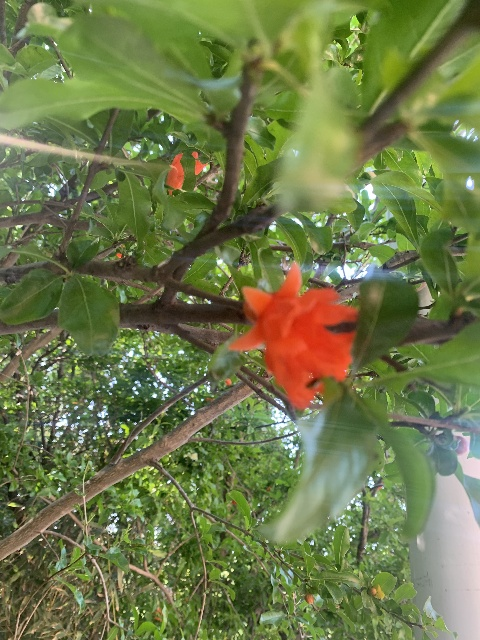bud: (305, 593, 313, 603)
flower: (227, 260, 359, 410), (166, 150, 207, 194)
